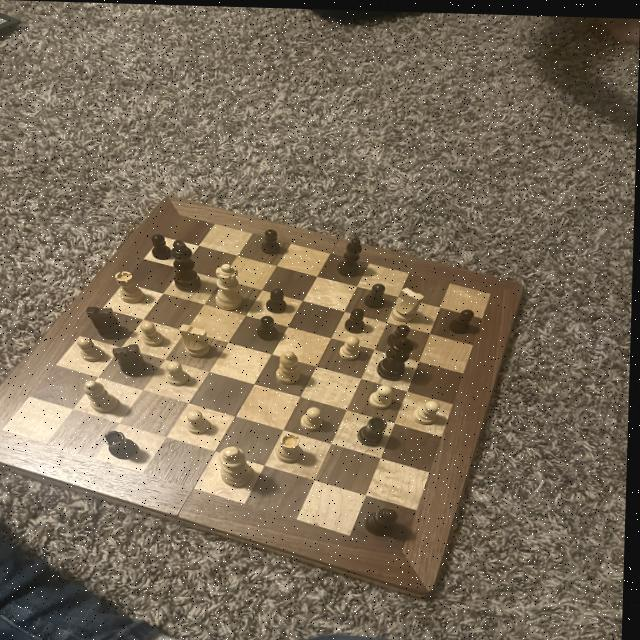bishop: (334, 233, 370, 278), (363, 503, 407, 537)
black-bishop: (168, 236, 207, 297)
black-king: (86, 303, 132, 341), (112, 340, 151, 379)
black-knight: (260, 226, 291, 257), (150, 232, 179, 263), (256, 312, 285, 342), (363, 278, 390, 309), (265, 285, 293, 314), (451, 304, 477, 332), (345, 304, 370, 332), (388, 321, 414, 346)
black-pawn: (373, 331, 420, 379)
black-queen: (103, 427, 142, 464), (358, 412, 393, 449)
black-rook: (82, 376, 123, 413), (274, 347, 311, 386)
white-bishop: (219, 442, 259, 490)
white-king: (391, 283, 429, 321), (179, 321, 218, 358)
white-knight: (76, 334, 111, 363), (412, 395, 447, 424), (185, 407, 218, 436), (299, 402, 330, 432), (164, 358, 194, 387), (369, 382, 400, 408), (141, 320, 169, 348), (338, 332, 366, 360)
white-pawn: (212, 260, 250, 312)
white-queen: (116, 268, 150, 306), (276, 428, 309, 464)
